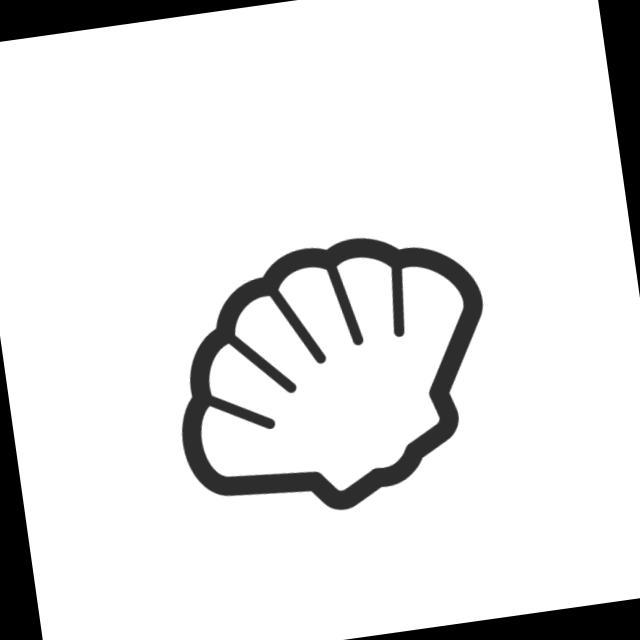shell: (148, 215, 516, 538)
